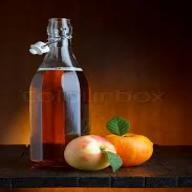apple: (57, 136, 120, 171), (98, 132, 154, 164)
